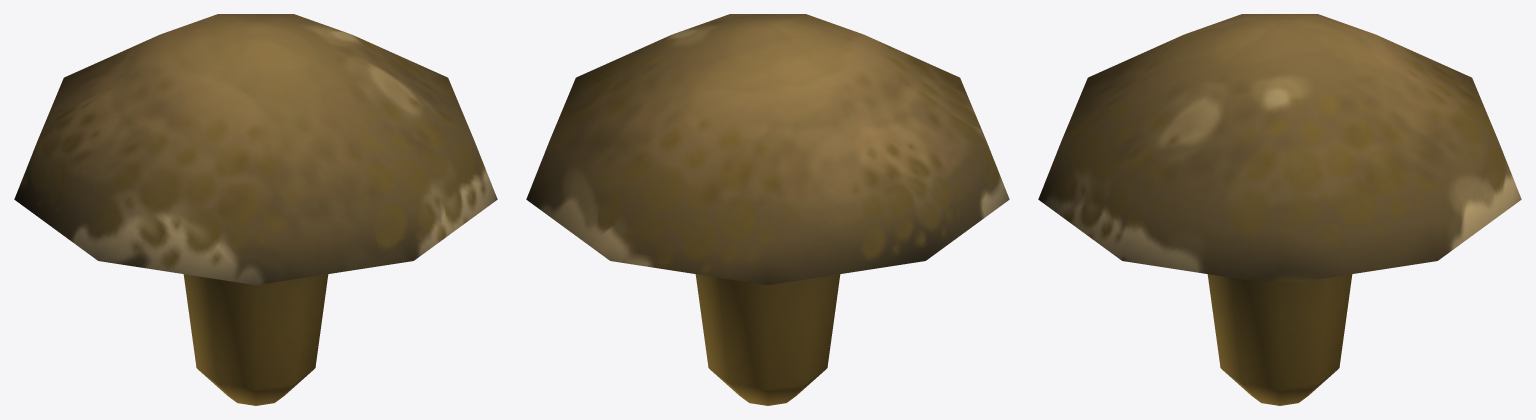
Rendered from new_mushroom2.FBX.
3 renders of one model, left to right at view 1: azimuth 30°, elevation 25°; view 2: azimuth 150°, elevation 25°; view 3: azimuth 270°, elevation 25°, orthographic.
Visible parts, largest first — view 1: mushr01; view 2: mushr01; view 3: mushr01.
Boxes of the visible parts, x1,y1,x2,y2 form: mushr01: (14,14,497,405); mushr01: (526,14,1009,405); mushr01: (1038,14,1521,405).
Size of the model in its own units: 66.77 by 57.51 by 67.8.
